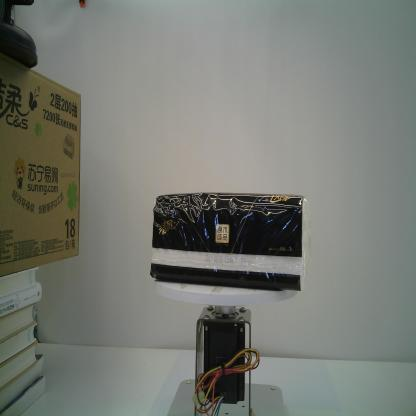Tissue: (150, 190, 306, 292)
